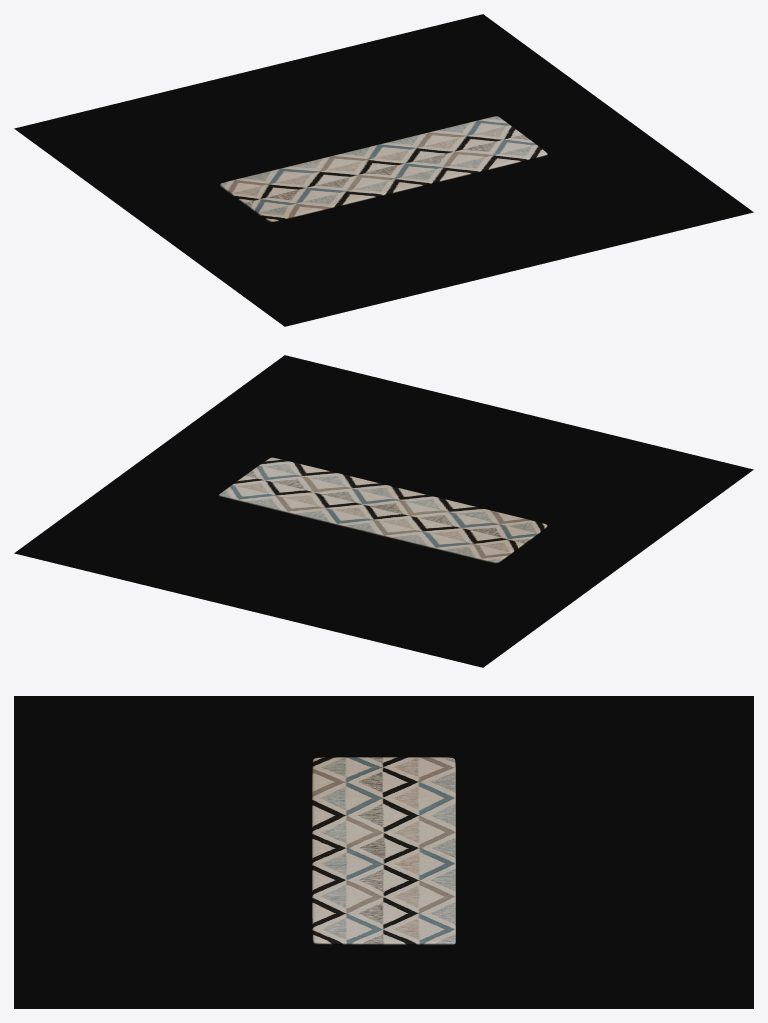
The model's file is Akia Hand Woven Wool Runner 66 x 200cm.FBX.
The picture shows the model from 3 angles, top to bottom: view 1: azimuth 30°, elevation 25°; view 2: azimuth 150°, elevation 25°; view 3: azimuth 270°, elevation 25°; orthographic projection. The views are drawn at different scales.
Parts seen in each view (by area): view 1: Plane001, Akia_Hand_Woven_Wool_Runner_66_x_200cm; view 2: Plane001, Akia_Hand_Woven_Wool_Runner_66_x_200cm; view 3: Plane001, Akia_Hand_Woven_Wool_Runner_66_x_200cm.
Boxes of the visible parts, x1,y1,x2,y2 form: Plane001: (14, 14, 753, 326); Akia_Hand_Woven_Wool_Runner_66_x_200cm: (220, 116, 547, 222); Plane001: (14, 355, 753, 667); Akia_Hand_Woven_Wool_Runner_66_x_200cm: (218, 457, 547, 563); Plane001: (14, 696, 753, 1008); Akia_Hand_Woven_Wool_Runner_66_x_200cm: (312, 757, 455, 945).
Bounding box in the file's own units: 334 × 1.57 × 334.
2 materials, 2 textured.
